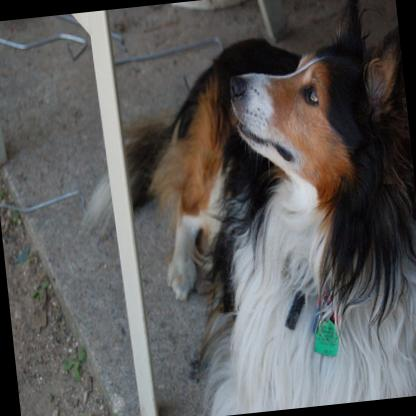Shetland_sheepdog: (52, 0, 416, 416)
